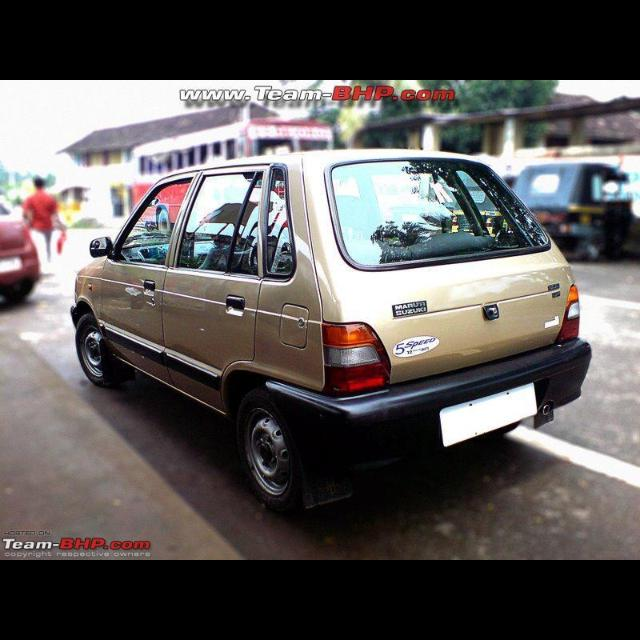number-plate: (438, 384, 540, 445)
vehicles: (70, 145, 593, 505)
